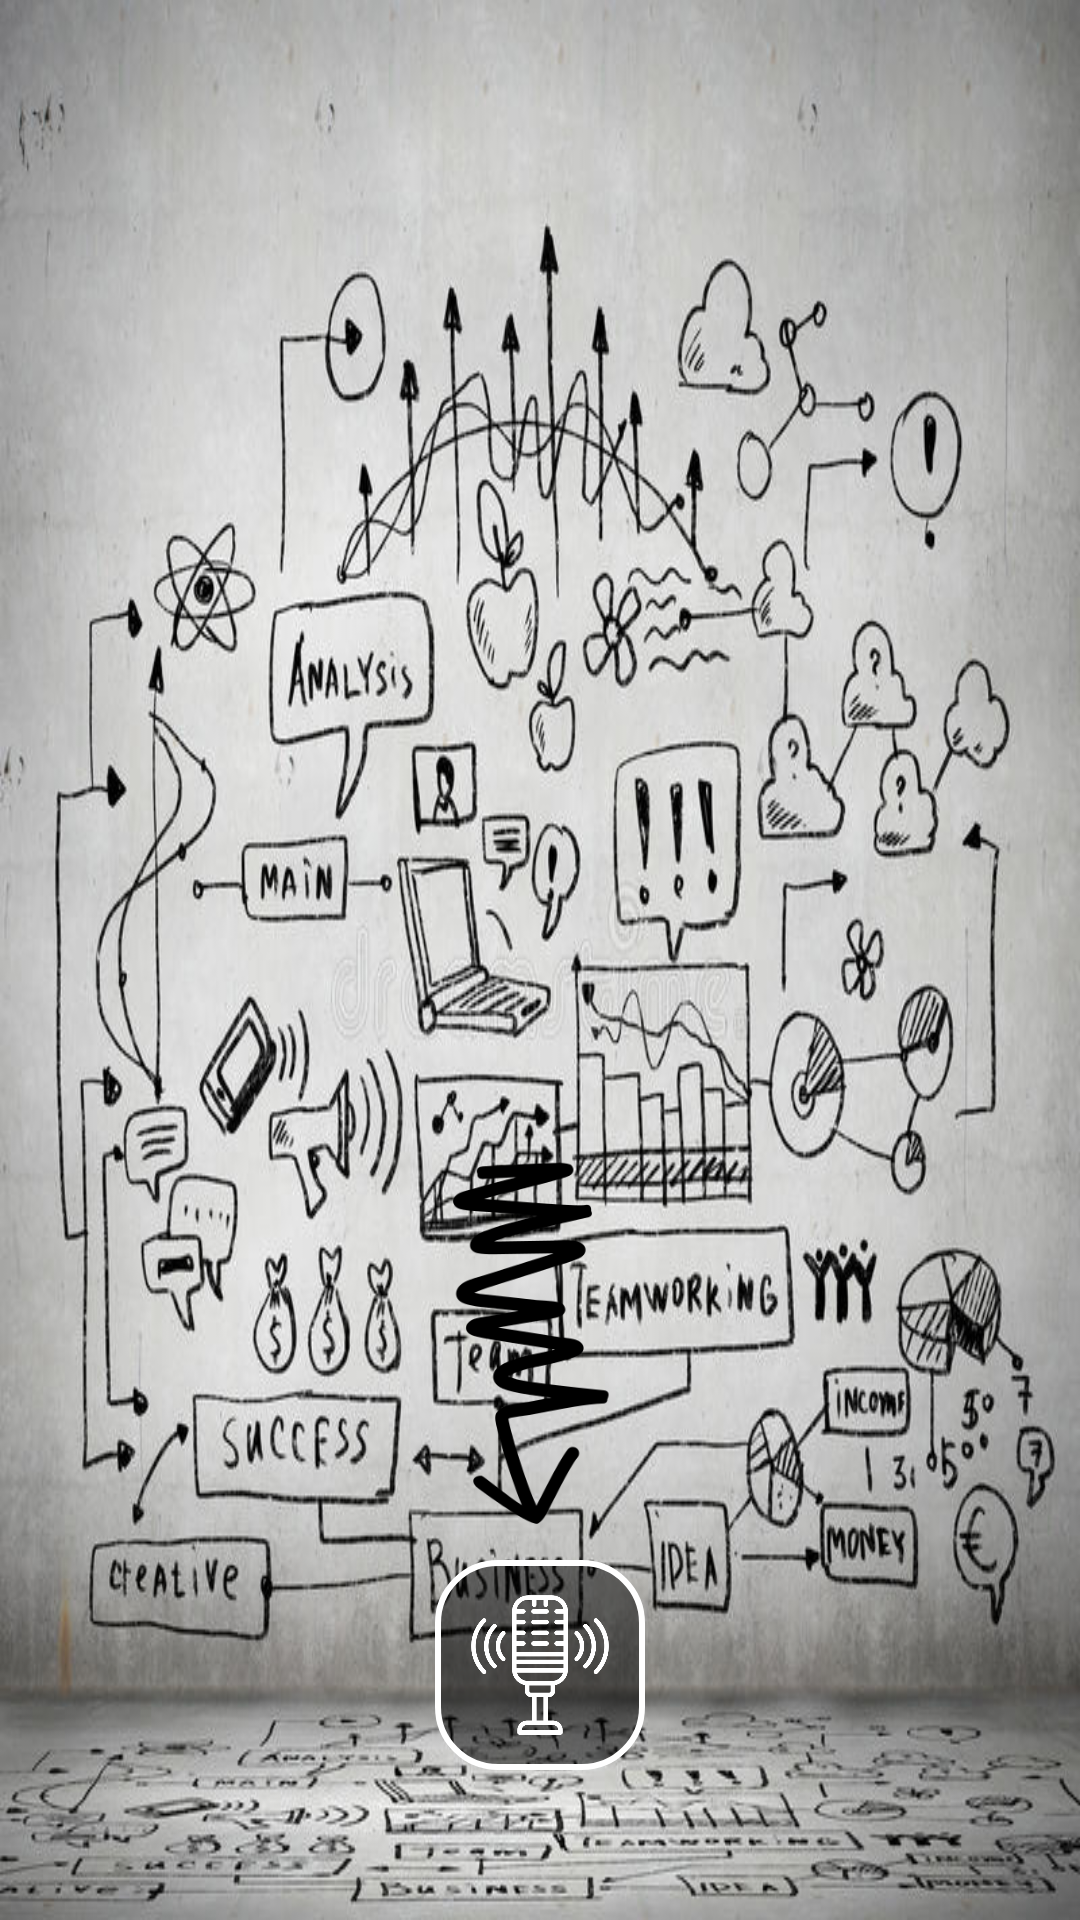

Point at icon controls on the screen. Image size 1080w x 1920h, points as point (x, y).
mic: point (540, 1665)
